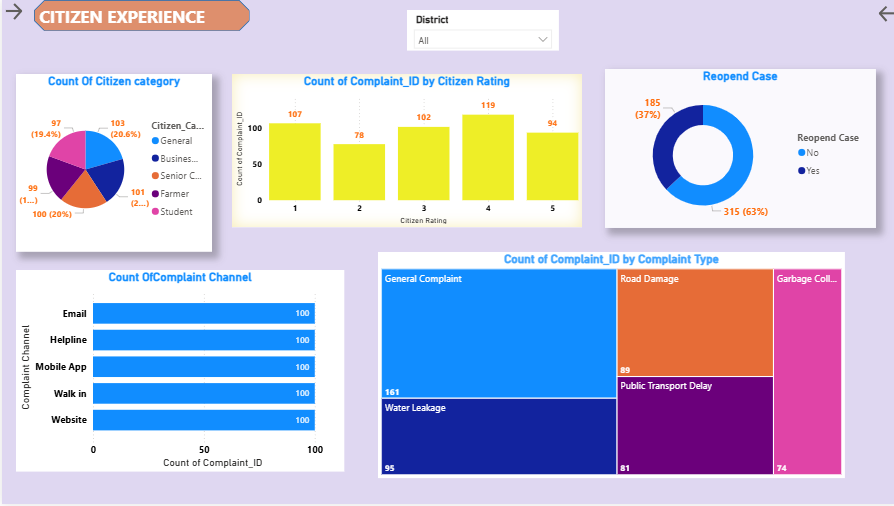

The dashboard page shown, as its layout file describes it:
{"tool":"powerbi","page":{"name":"Citizen Experience","canvas":[1280,720],"ordinal":3},"visuals":[{"type":"pieChart","title":"Count Of Citizen category","fields":{"Category":["Citizen Grievance Data.Citizen_Category"],"Y":["CountNonNull(Citizen Grievance Data.Complaint_ID)"]},"box":[19.9,106.3,280.5,253.9],"z":0},{"type":"clusteredColumnChart","fields":{"Category":["Citizen Grievance Data.Citizen Rating"],"Y":["CountNonNull(Citizen Grievance Data.Complaint_ID)"]},"box":[328.3,106.3,499.8,219.3],"z":1000},{"type":"donutChart","title":"Reopend Case","fields":{"Category":["Citizen Grievance Data.Reopend Case"],"Y":["CountNonNull(Citizen Grievance Data.Complaint_ID)"]},"box":[861.3,98.4,386.8,227.3],"z":2000},{"type":"barChart","title":"Count OfComplaint  Channel","fields":{"Category":["Citizen Grievance Data.Complaint  Channel"],"Y":["CountNonNull(Citizen Grievance Data.Complaint_ID)"]},"box":[19.9,385.5,469.2,288.4],"z":3000},{"type":"slicer","fields":{"Values":["Citizen Grievance Data.District"]},"box":[578.6,14.4,217.3,57.6],"z":4000},{"type":"treemap","fields":{"Group":["Citizen Grievance Data.Complaint Type"],"Values":["CountNonNull(Citizen Grievance Data.Complaint_ID)"]},"box":[537,360.2,667.2,323],"z":5000},{"type":"shape","box":[45.9,0,308.2,44.4],"z":6000},{"type":"actionButton","box":[0,0,45.9,33],"z":7000},{"type":"actionButton","box":[1248.5,0,31.5,40.1],"z":8000}]}

Visuals, with their boxes in screenshot pixels (x1, y1, x2, y2), scaled from the page's 1280x720 canvas onto the 894x506 screenshot:
"Count Of Citizen category" pieChart: <region>14, 75, 210, 253</region>
clusteredColumnChart - Citizen Grievance Data.Citizen Rating x CountNonNull(Citizen Grievance Data.Complaint_ID): <region>229, 75, 578, 229</region>
"Reopend Case" donutChart: <region>602, 69, 872, 229</region>
"Count OfComplaint  Channel" barChart: <region>14, 271, 342, 474</region>
slicer - Citizen Grievance Data.District: <region>404, 10, 556, 51</region>
treemap - Citizen Grievance Data.Complaint Type x CountNonNull(Citizen Grievance Data.Complaint_ID): <region>375, 253, 841, 480</region>
shape: <region>32, 0, 247, 31</region>
actionButton: <region>0, 0, 32, 23</region>
actionButton: <region>872, 0, 893, 28</region>
